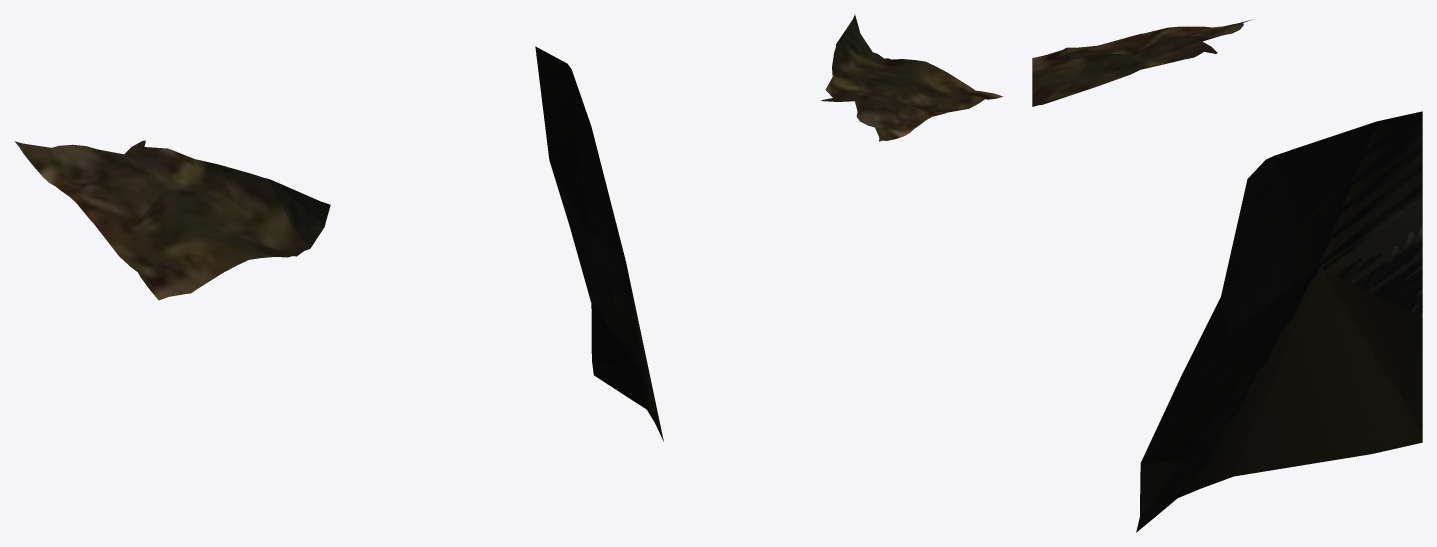
3 renders of one model, left to right at view 1: azimuth 30°, elevation 25°; view 2: azimuth 150°, elevation 25°; view 3: azimuth 270°, elevation 25°, orthographic. The views are drawn at different scales.
Bounding box in the file's own units: 0.8374 × 0.8373 × 0.8373.
3 materials, 3 textured.
